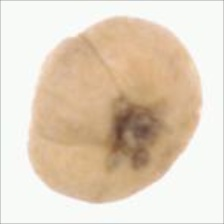L5: (30, 33, 124, 148), (103, 97, 178, 172)
L6: (24, 15, 205, 206)
